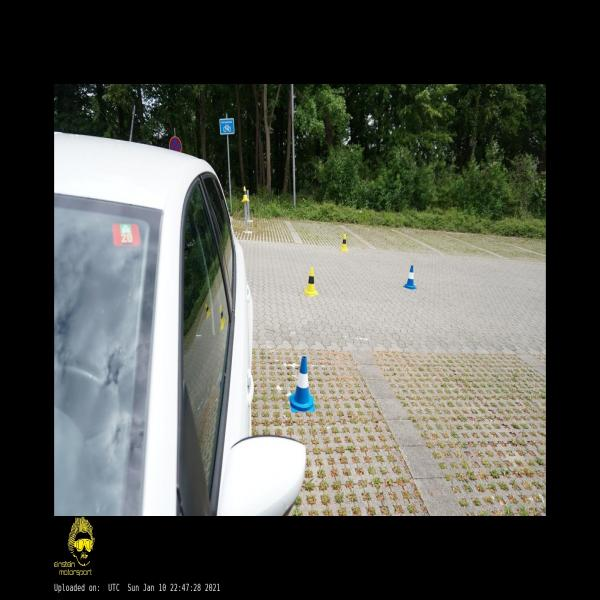blue_cone: (289, 357, 315, 412), (403, 265, 416, 289)
yellow_cone: (303, 268, 318, 296), (340, 234, 348, 251), (242, 186, 250, 202)
